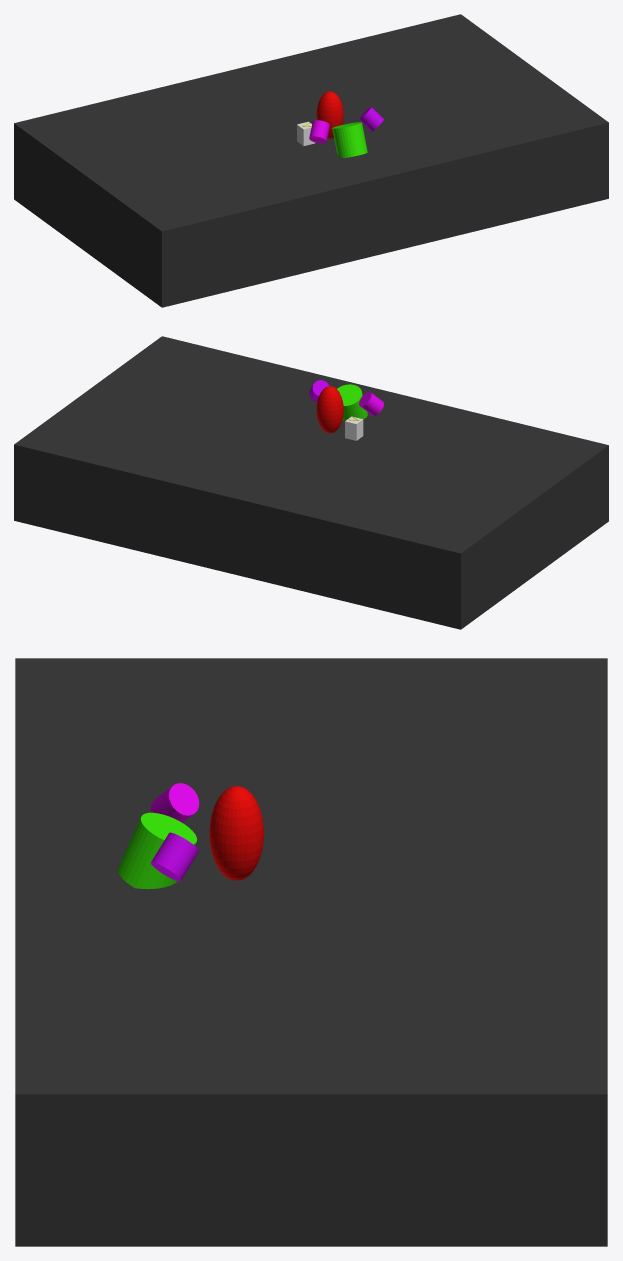
The model's file is BlockoutTaigo.fbx.
The picture shows the model from 3 angles, top to bottom: view 1: azimuth 30°, elevation 25°; view 2: azimuth 150°, elevation 25°; view 3: azimuth 270°, elevation 25°; orthographic projection. The views are drawn at different scales.
Parts seen in each view (by area): view 1: Cube, Cylinder, Sphere, Cylinder.001; view 2: Cube, Sphere, Cylinder, Cylinder.001, Cube.001; view 3: Cube, Sphere, Cylinder, Cylinder.002, Cylinder.001.
Part boxes in pixels (<box>): Cube: <box>14,14,608,307</box>; Cylinder: <box>332,122,367,157</box>; Sphere: <box>316,91,343,138</box>; Cylinder.001: <box>309,120,329,143</box>; Cube: <box>14,336,608,629</box>; Sphere: <box>316,386,343,433</box>; Cylinder: <box>337,384,367,420</box>; Cylinder.001: <box>359,391,383,415</box>; Cube.001: <box>345,416,363,440</box>; Cube: <box>15,658,607,1246</box>; Sphere: <box>209,786,263,880</box>; Cylinder: <box>118,812,196,889</box>; Cylinder.002: <box>151,832,198,881</box>; Cylinder.001: <box>150,783,199,822</box>.
Size of the model in its own units: 2303 by 594 by 1322.
